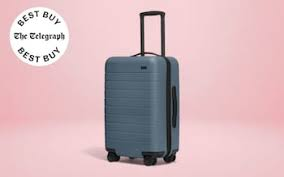suitcase: (98, 10, 184, 167)
